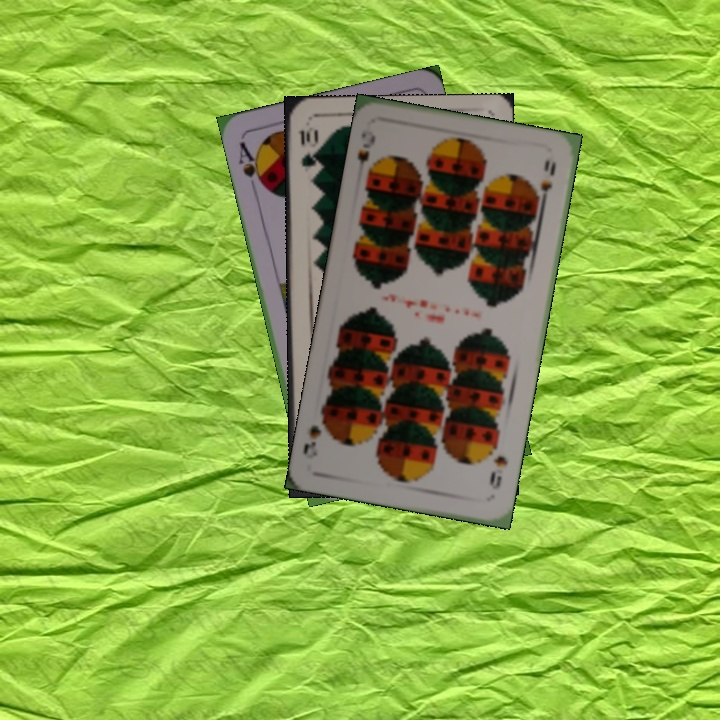G10: (295, 123, 319, 169)
S9: (353, 127, 380, 181), (485, 451, 510, 492)
SA: (234, 138, 268, 192)
